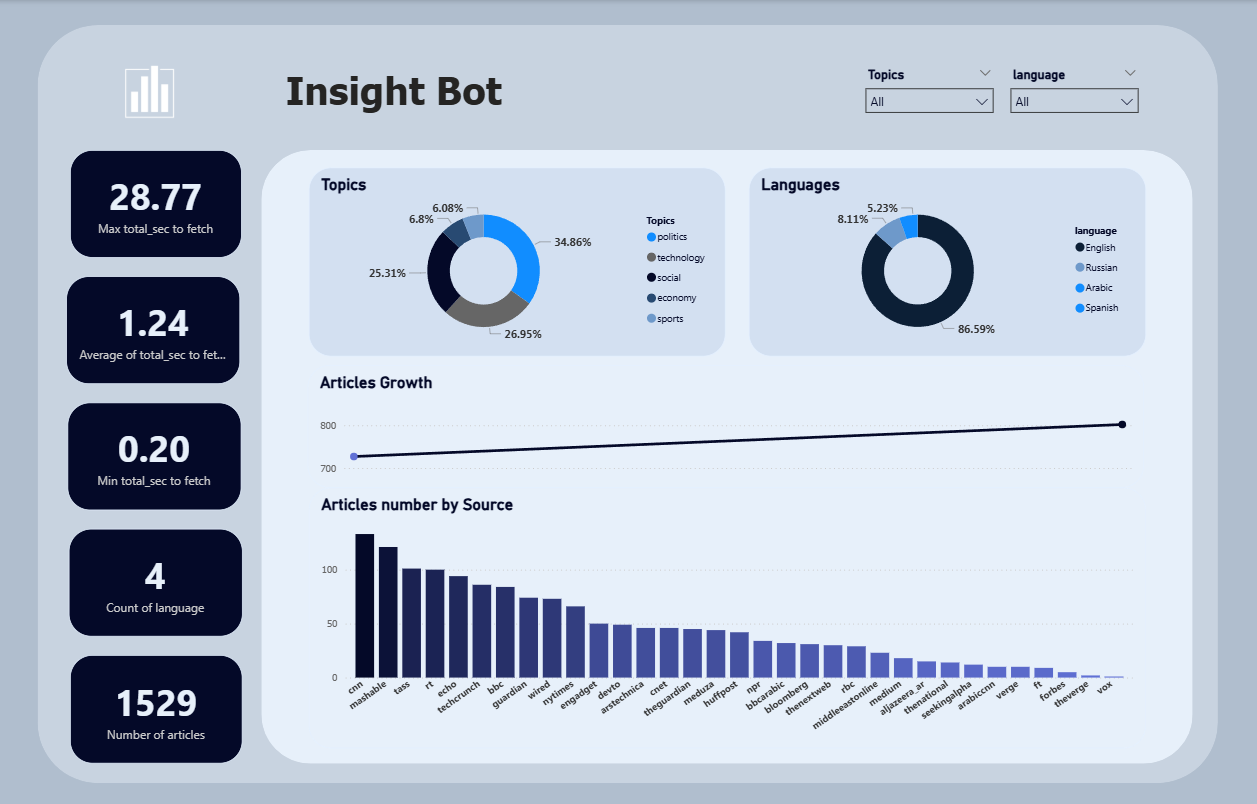

The page's visual inventory and layout, read from the dashboard file:
{"tool":"powerbi","page":{"name":"Page 1","canvas":[1400,900],"ordinal":0},"visuals":[{"type":"shape","box":[42,28,1314,844],"z":0},{"type":"shape","box":[290.7,166.7,1036.9,683.1],"z":1000},{"type":"card","fields":{"Values":["Avg(news_articles_with_analysis.t_total_sec)"]},"box":[73.6,307.4,193.3,119.6],"z":2000},{"type":"card","fields":{"Values":["Max(news_articles_with_analysis.t_total_sec)"]},"box":[77.3,166.7,191.1,120],"z":3000},{"type":"card","fields":{"Values":["Min(news_articles_with_analysis.t_total_sec)"]},"box":[74.9,447.8,193.3,119.6],"z":4000},{"type":"donutChart","title":"Topics ","fields":{"Category":["news_articles_with_analysis.context"],"Y":["CountNonNull(news_articles_with_analysis.id)"]},"box":[344,186,464,210],"z":5000},{"type":"donutChart","title":"Languages","fields":{"Category":["news_articles_with_analysis.language"],"Y":["CountNonNull(news_articles_with_analysis.id)"]},"box":[834,186,442,210],"z":6000},{"type":"card","fields":{"Values":["CountNonNull(news_articles_with_analysis.id)"]},"box":[77.5,728.5,191.7,121.2],"z":7000},{"type":"clusteredColumnChart","title":"Articles number by Source ","fields":{"Category":["news_articles_with_analysis.source"],"Y":["CountNonNull(news_articles_with_analysis.id)"]},"box":[343.3,543.3,931.7,290],"z":8000},{"type":"card","fields":{"Values":["Count(news_articles_with_analysis.language)"]},"box":[76.2,588.2,193.3,119.6],"z":9000},{"type":"lineChart","title":"Articles Growth ","fields":{"Category":["news_articles_with_analysis.Date.Variation.Date Hierarchy.Day"],"Y":["CountNonNull(news_articles_with_analysis.id)"]},"box":[342.9,405.7,931.4,137.1],"z":10000},{"type":"textbox","box":[312.5,70,422.5,75],"z":11000},{"type":"slicer","fields":{"Values":["news_articles_with_analysis.language"]},"box":[1115,70,162.5,72.5],"z":12000},{"type":"slicer","fields":{"Values":["news_articles_with_analysis.context"]},"box":[952.5,70,162.5,72.5],"z":13000},{"type":"image","box":[67.5,20,197.5,165],"z":14000}]}

Visuals, with their boxes in screenshot pixels (x1, y1, x2, y2), scaled from the page's 1400x900 canvas onto the 1257x804 screenshot:
shape: Rect(38, 25, 1217, 779)
shape: Rect(261, 149, 1192, 759)
card - Avg(news_articles_with_analysis.t_total_sec): Rect(66, 275, 240, 381)
card - Max(news_articles_with_analysis.t_total_sec): Rect(69, 149, 241, 256)
card - Min(news_articles_with_analysis.t_total_sec): Rect(67, 400, 241, 507)
"Topics " donutChart: Rect(309, 166, 725, 354)
"Languages" donutChart: Rect(749, 166, 1146, 354)
card - CountNonNull(news_articles_with_analysis.id): Rect(70, 651, 242, 759)
"Articles number by Source " clusteredColumnChart: Rect(308, 485, 1145, 744)
card - Count(news_articles_with_analysis.language): Rect(68, 525, 242, 632)
"Articles Growth " lineChart: Rect(308, 362, 1144, 485)
textbox: Rect(281, 63, 660, 130)
slicer - news_articles_with_analysis.language: Rect(1001, 63, 1147, 127)
slicer - news_articles_with_analysis.context: Rect(855, 63, 1001, 127)
image: Rect(61, 18, 238, 165)
